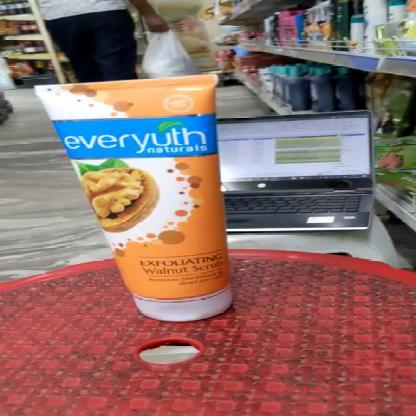EY EXF WALNUT SCRUB AYR 200G: (38, 72, 239, 322)
